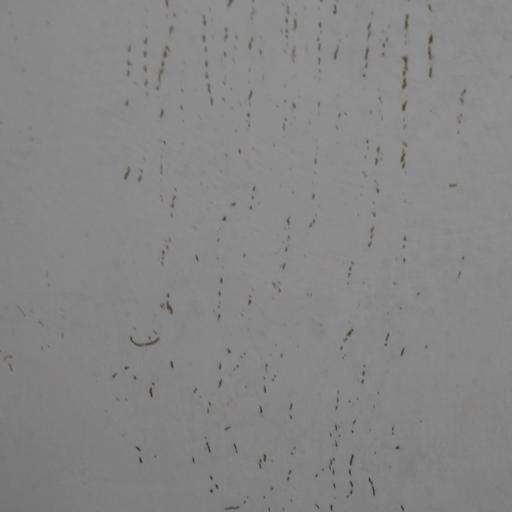stain: (104, 2, 494, 512)
